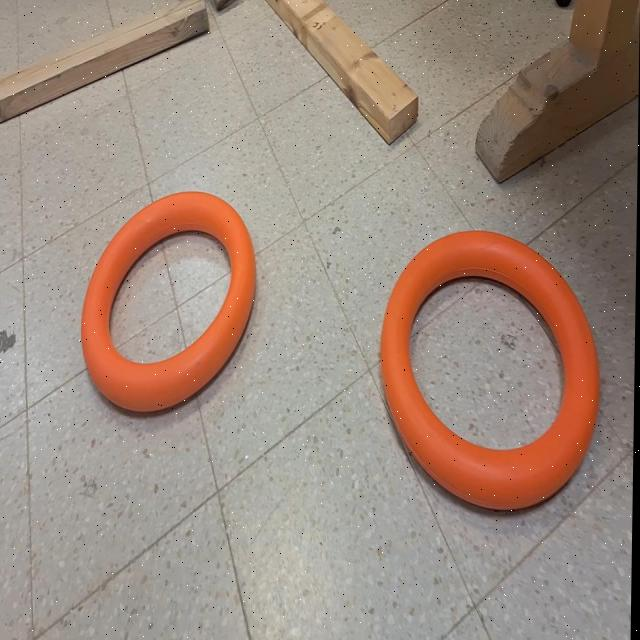note: (378, 227, 605, 513), (81, 189, 260, 422)
